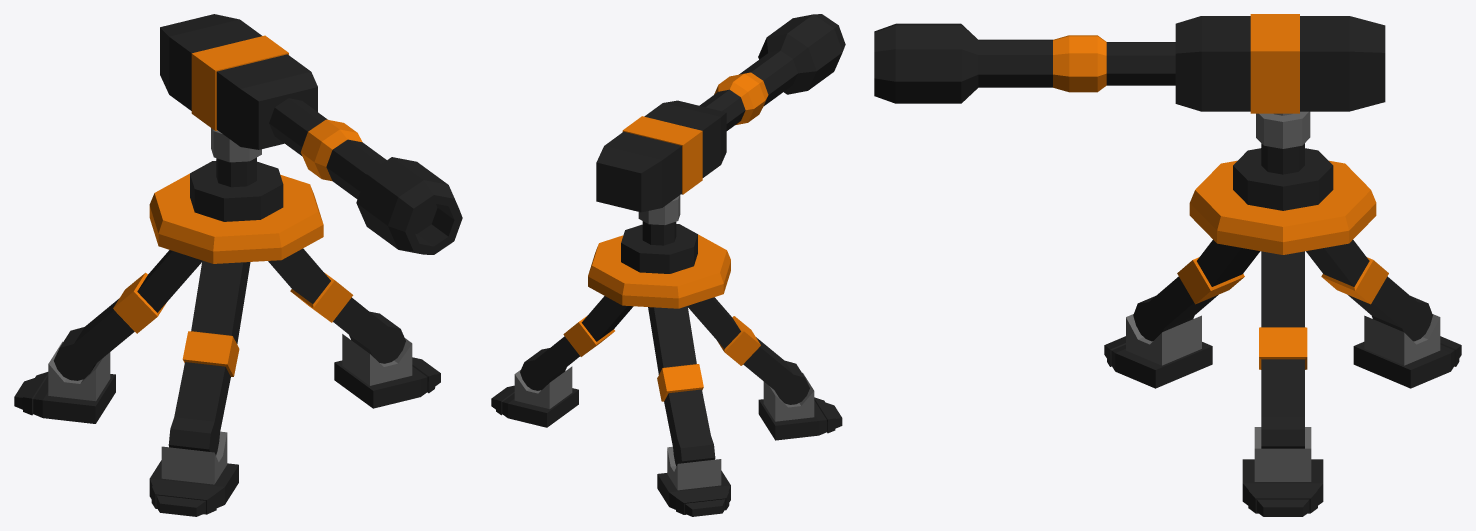
Rendered from Turret.glb.
3 views of the same model, side by side, from view 1: azimuth 30°, elevation 25°; view 2: azimuth 150°, elevation 25°; view 3: azimuth 270°, elevation 25° (orthographic). The views are drawn at different scales.
Parts seen in each view (by area): view 1: Base, Swivel; view 2: Base, Swivel; view 3: Base, Swivel.
Part boxes in pixels (left/top/right/bottom): Base: left=14, top=157, right=440, bottom=516; Swivel: left=160, top=14, right=462, bottom=254; Base: left=491, top=221, right=842, bottom=516; Swivel: left=596, top=14, right=845, bottom=224; Base: left=1104, top=143, right=1461, bottom=516; Swivel: left=874, top=14, right=1385, bottom=148.
Bounding box in the file's own units: 0.9782 × 1.03 × 1.4.
Materials: 1 (1 with a texture image).
